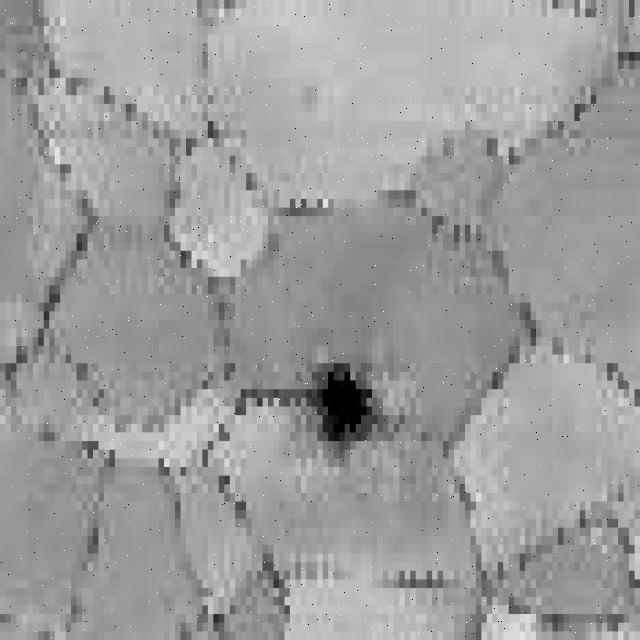good_void: (310, 350, 381, 462)
